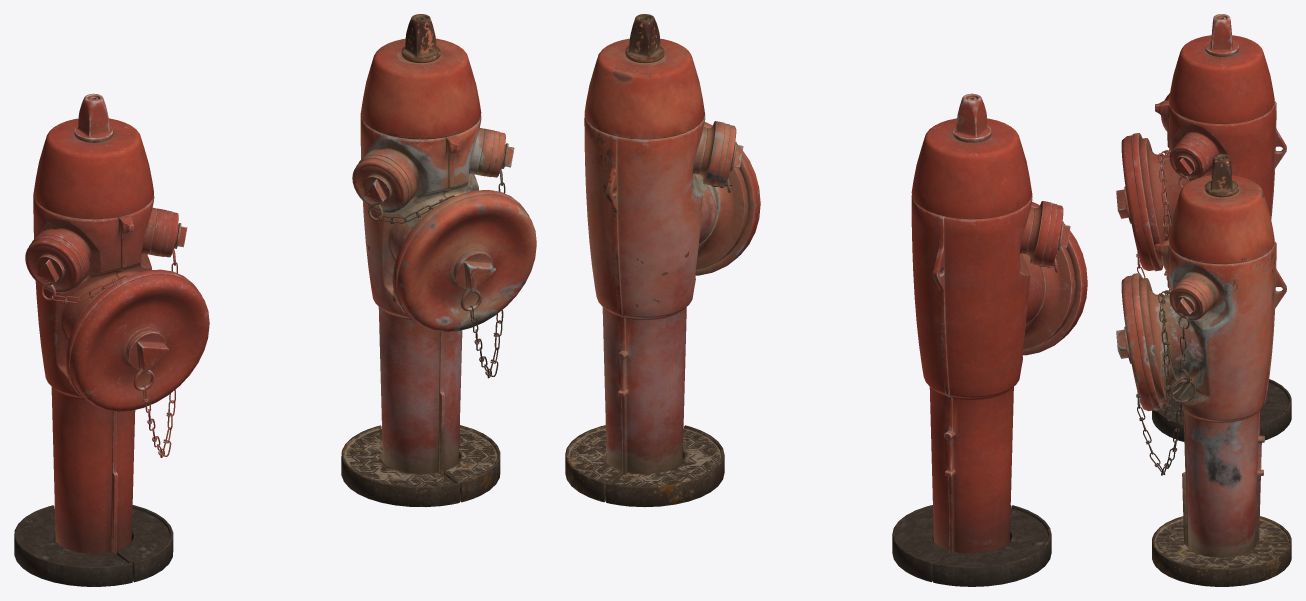
Rendered from fire_hydrant.glb.
3 views of the same model, side by side, from view 1: azimuth 30°, elevation 25°; view 2: azimuth 150°, elevation 25°; view 3: azimuth 270°, elevation 25° (orthographic). The views are drawn at different scales.
Parts seen in each view (by area): view 1: fire_hydrant_aged, fire_hydrant, fire_hydrant_cap_01, fire_hydrant_cap_01_aged, fire_hydrant_cap_03_aged, fire_hydrant_cap_03, fire_hydrant_chain_aged, fire_hydrant_chain, fire_hydrant_cap_02, fire_hydrant_cap_02_aged; view 2: fire_hydrant, fire_hydrant_aged, fire_hydrant_cap_01_aged, fire_hydrant_cap_01, fire_hydrant_cap_03_aged, fire_hydrant_cap_03; view 3: fire_hydrant_aged, fire_hydrant, fire_hydrant_cap_01, fire_hydrant_cap_01_aged, fire_hydrant_chain_aged, fire_hydrant_cap_02_aged, fire_hydrant_cap_02, fire_hydrant_chain.
Part boxes in pixels (x1,y1,x2,y2): fire_hydrant_aged: [341, 14, 500, 506]; fire_hydrant: [14, 93, 173, 586]; fire_hydrant_cap_01: [65, 269, 209, 411]; fire_hydrant_cap_01_aged: [392, 190, 536, 331]; fire_hydrant_cap_03_aged: [352, 155, 411, 213]; fire_hydrant_cap_03: [25, 235, 84, 293]; fire_hydrant_chain_aged: [368, 145, 505, 378]; fire_hydrant_chain: [41, 224, 178, 457]; fire_hydrant_cap_02: [159, 210, 187, 257]; fire_hydrant_cap_02_aged: [486, 130, 514, 177]; fire_hydrant: [892, 93, 1075, 586]; fire_hydrant_aged: [565, 14, 748, 507]; fire_hydrant_cap_01_aged: [695, 122, 760, 275]; fire_hydrant_cap_01: [1022, 202, 1087, 355]; fire_hydrant_cap_03_aged: [713, 123, 743, 186]; fire_hydrant_cap_03: [1041, 203, 1070, 266]; fire_hydrant_aged: [1139, 154, 1291, 586]; fire_hydrant: [1139, 14, 1291, 441]; fire_hydrant_cap_01: [1116, 133, 1162, 271]; fire_hydrant_cap_01_aged: [1116, 273, 1162, 411]; fire_hydrant_chain_aged: [1136, 289, 1196, 475]; fire_hydrant_cap_02_aged: [1169, 281, 1209, 320]; fire_hydrant_cap_02: [1169, 141, 1209, 180]; fire_hydrant_chain: [1136, 149, 1194, 279].
Size of the model in its own units: 0.8746 by 0.7995 by 0.3177.
2 materials, 2 textured.
